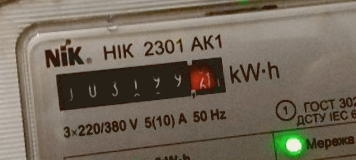0: (85, 79, 98, 99), (62, 83, 73, 101)
1: (129, 72, 139, 91)
3: (107, 77, 119, 98)
6: (195, 74, 206, 89)
9: (150, 69, 161, 90), (172, 69, 183, 88)
screen: (47, 47, 233, 117)
